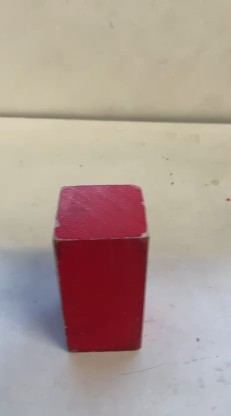red: (56, 185, 141, 339)
